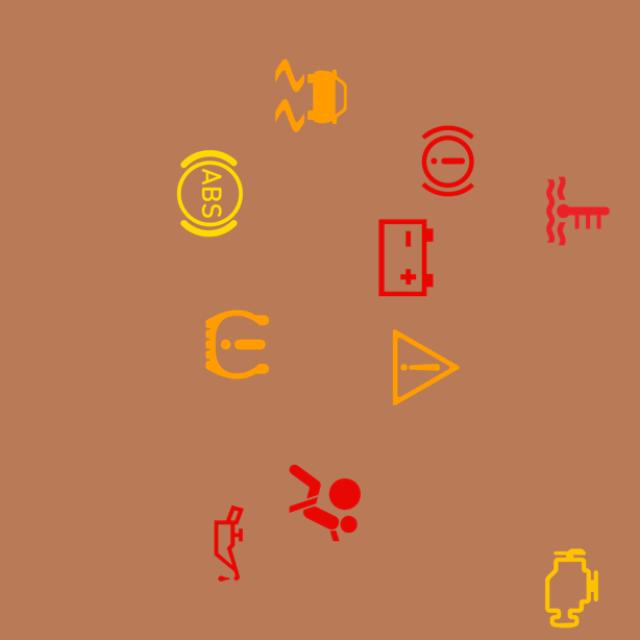Anti Lock Braking System: (162, 146, 258, 241)
Braking System Issue: (400, 114, 495, 208)
Charging System Issue: (358, 210, 454, 306)
Check Engine: (524, 541, 619, 636)
Electronic Stability Problem -ESP-: (264, 48, 358, 143)
Engine Overheating Warning Light: (530, 164, 626, 258)
Low Engine Oil Warning Light: (182, 496, 276, 591)
Low Tire Pressure Warning Light: (190, 297, 284, 392)
Master warning light: (378, 320, 474, 415)
SRS-Airbag: (277, 456, 372, 550)
